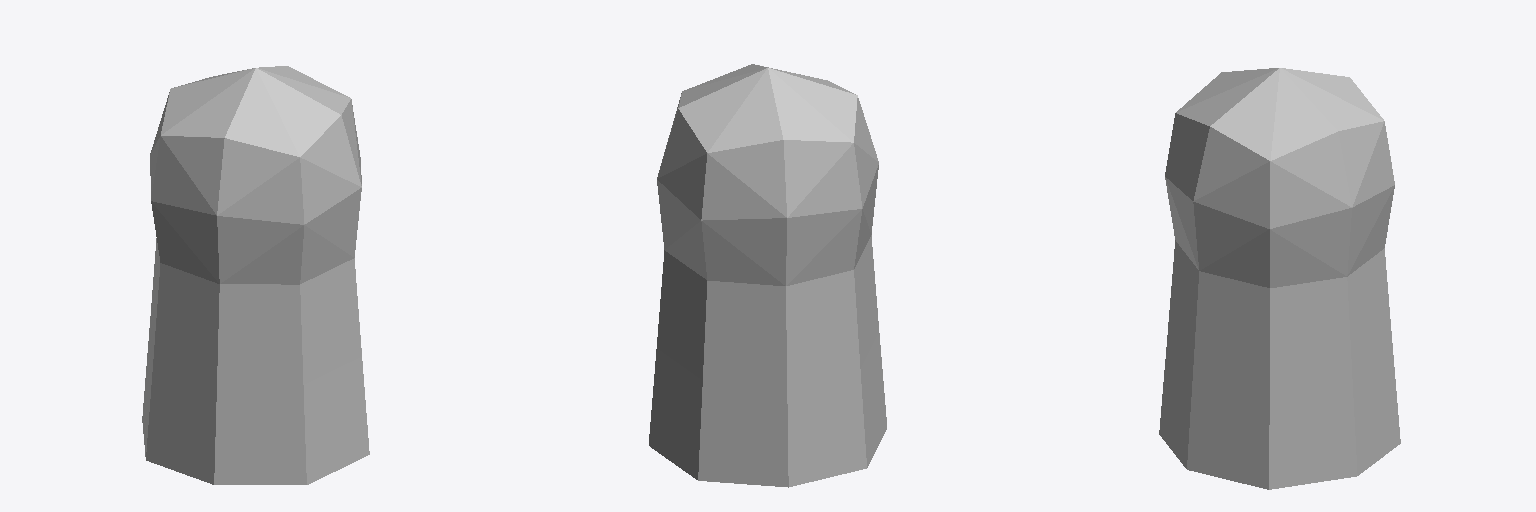
Rendered from hip.obj.
3 views of the same model, side by side, from view 1: azimuth 30°, elevation 25°; view 2: azimuth 150°, elevation 25°; view 3: azimuth 270°, elevation 25° (orthographic).
Parts seen in each view (by area): view 1: Cube_Cube.001; view 2: Cube_Cube.001; view 3: Cube_Cube.001.
Part boxes in pixels (x1,y1,x2,y2): Cube_Cube.001: (142,66,369,484); Cube_Cube.001: (649,64,886,487); Cube_Cube.001: (1159,68,1400,489).
Bounding box in the file's own units: 0.5371 × 0.9236 × 0.5371.